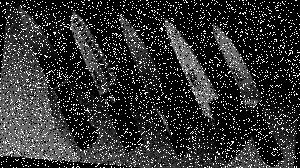knife: (17, 2, 107, 153), (156, 8, 241, 163), (65, 8, 150, 158), (113, 6, 196, 159), (205, 16, 286, 167)
